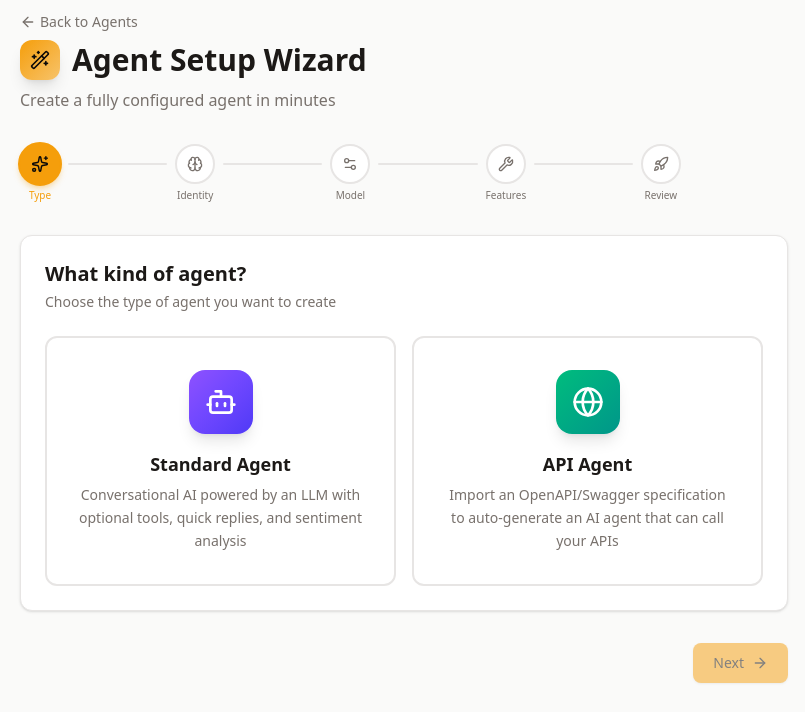
Test: AgentWizardPage › selects Standard Agent and navigates to step 2
What coordinates should you click on to do the following:
click the button with test id "type-standard"
I would click on:
 (220, 461)
Its box is [45,336,396,586].
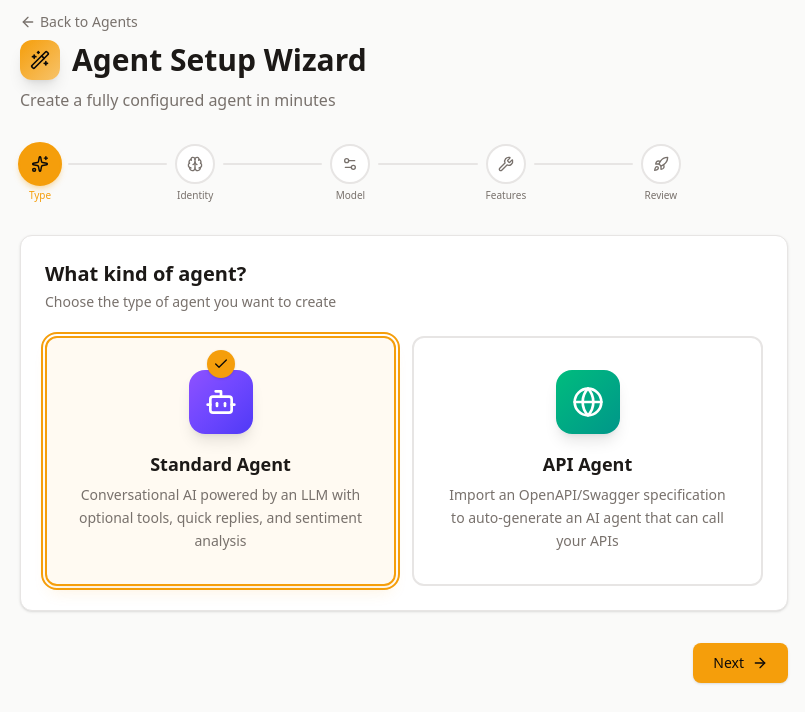
Expected: the button with test id "wizard-next" is enabled
What coordinates should you click on to do the following:
click the button with test id "wizard-next"
I would click on:
 (741, 663)
Its box is [693,643,788,683].
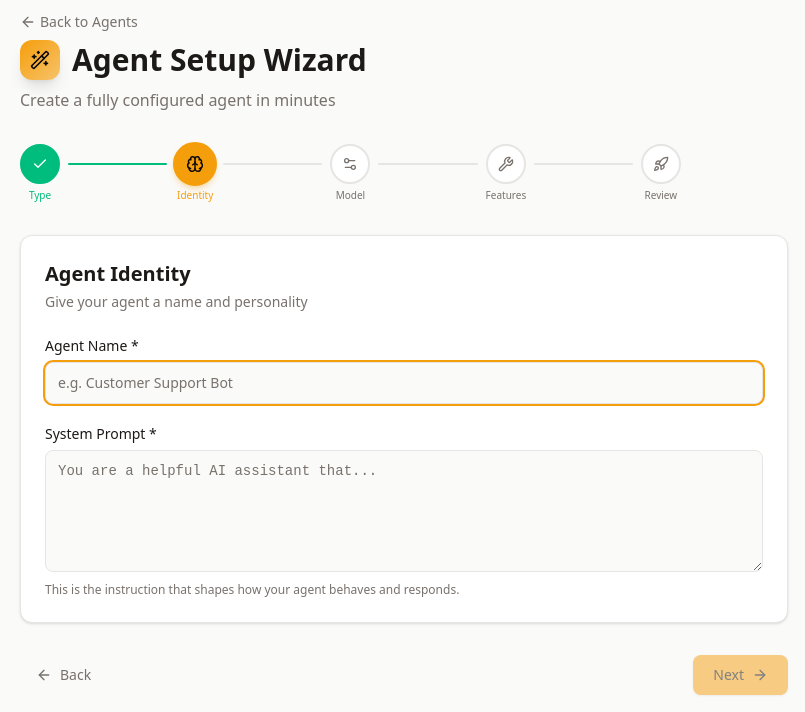
Expected: the field with test id "wizard-agent-name" is shown, [45,362,763,404]
Expected: the text box with test id "wizard-system-prompt" is shown, [45,450,763,572]
